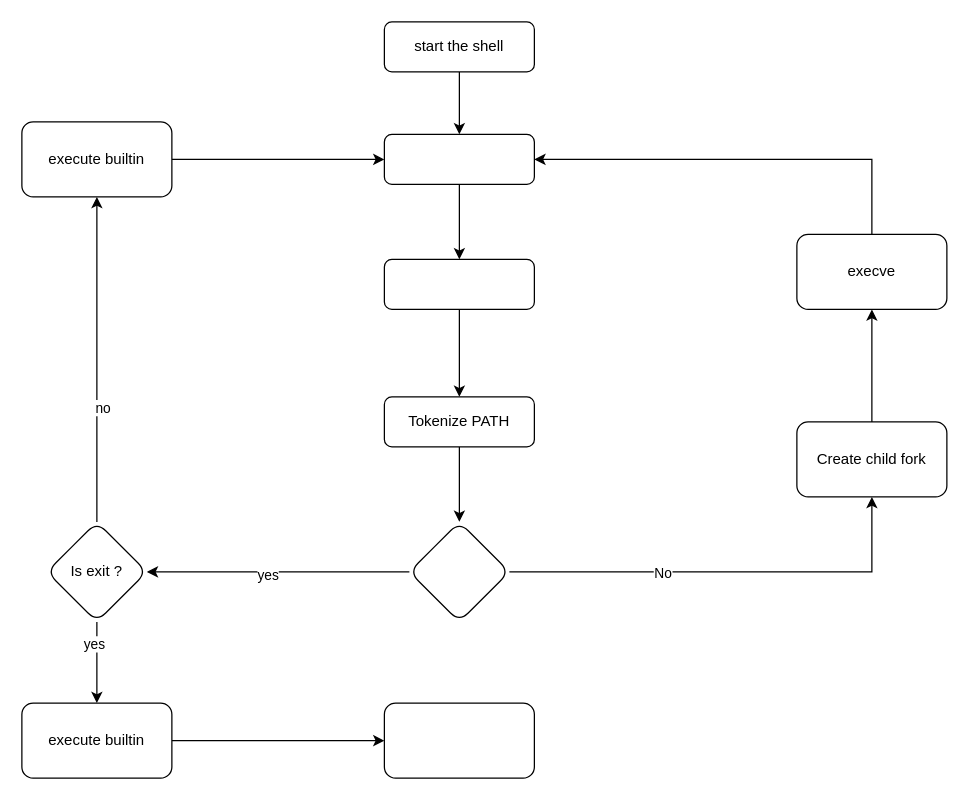
Image size: 969x800. Some labels were removed from this diagram. Each missing label, with the box of its shape:
exit the shell: (383, 702, 534, 778)
Is builtin ?: (408, 521, 509, 622)
Tokenize input: (383, 258, 534, 309)
Wait for user input: (383, 133, 534, 184)
